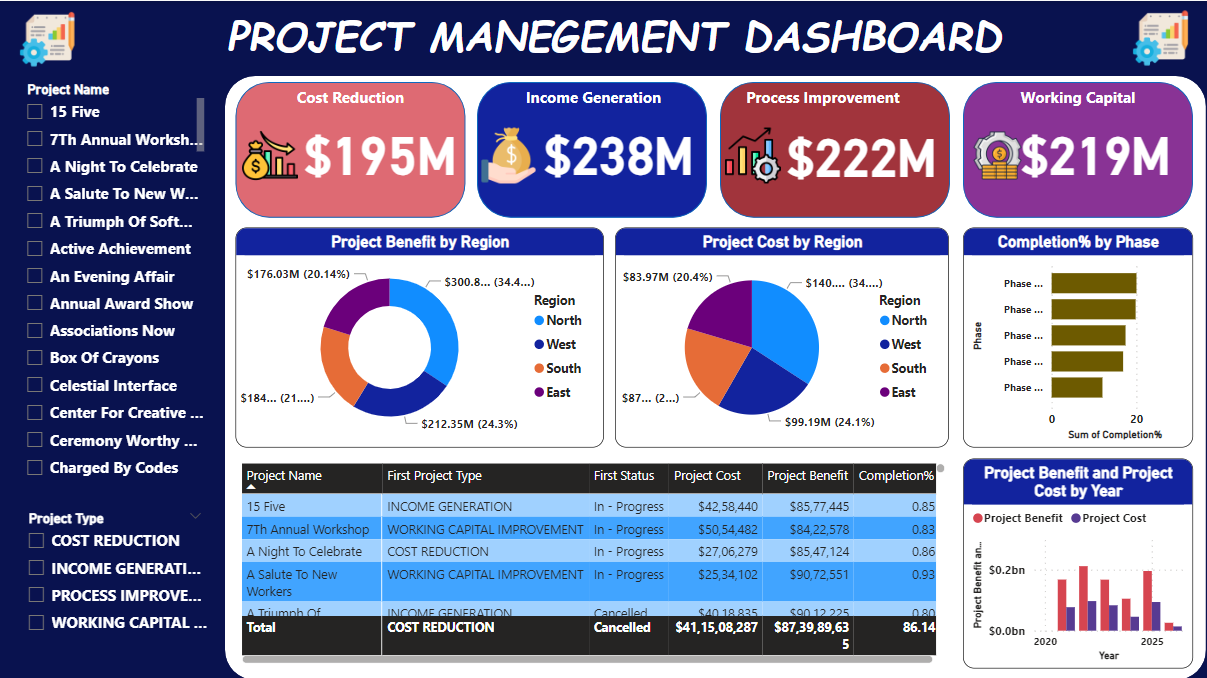

Layout of this report page (visuals, bound fields, positions):
{"tool":"powerbi","page":{"name":"Page 1","canvas":[1280,720],"ordinal":0},"visuals":[{"type":"card","fields":{"Values":["Sum(Project Management Dataset. Project Benefit )"]},"box":[285.2,101.5,236.2,110.5],"z":0,"group":"g1"},{"type":"shape","box":[239.2,78.7,1040.3,640.5],"z":0},{"type":"card","fields":{"Values":["Sum(Project Management Dataset. Project Benefit )"]},"box":[538.1,101.5,236.2,110.5],"z":1000,"group":"g1"},{"type":"shape","box":[249.3,85.3,243.8,143.8],"z":1000},{"type":"card","fields":{"Values":["Sum(Project Management Dataset. Project Benefit )"]},"box":[795.5,104.5,236.2,107.5],"z":2000,"group":"g1"},{"type":"shape","box":[506.6,85.3,243.8,143.8],"z":2000},{"type":"card","fields":{"Values":["Sum(Project Management Dataset. Project Benefit )"]},"box":[1043.8,101.5,236.2,110.5],"z":3000,"group":"g1"},{"type":"shape","box":[763.8,86.2,243.8,143.8],"z":3000},{"type":"image","box":[1022.1,129.3,69.7,69.7],"z":4000,"group":"g1"},{"type":"shape","box":[1021,86.2,243.8,143.8],"z":4000},{"type":"image","box":[251.4,129.3,69.7,69.7],"z":5000,"group":"g1"},{"type":"textbox","box":[249.8,86.3,243.8,36.3],"z":5000},{"type":"image","box":[504.3,129.3,69.7,69.7],"z":6000,"group":"g1"},{"type":"textbox","box":[507.3,86.3,243.8,36.3],"z":6000},{"type":"image","box":[763.7,128.8,69.7,69.7],"z":7000,"group":"g1"},{"type":"textbox","box":[751,86.3,243.8,36.3],"z":7000},{"type":"textbox","box":[1020.6,86.3,243.8,36.3],"z":8000},{"type":"group","id":"g1","title":"Group 1","box":[251.4,101.5,1028.1,110.5],"z":9000},{"type":"donutChart","title":"Project Benefit  by Region","fields":{"Y":["Sum(Project Management Dataset. Project Benefit )"],"Category":["Project Management Dataset.Region"]},"box":[249.8,240.8,390.7,233.2],"z":10000},{"type":"pieChart","title":"Project Cost  by Region","fields":{"Category":["Project Management Dataset.Region"],"Y":["Sum(Project Management Dataset. Project Cost )"]},"box":[652.6,240.8,354.3,233.2],"z":11000},{"type":"barChart","title":"Completion% by Phase","fields":{"Y":["Sum(Project Management Dataset.Completion%)"],"Category":["Project Management Dataset.Phase"]},"box":[1020.6,240.8,243.8,233.2],"z":12000},{"type":"pivotTable","fields":{"Rows":["Project Management Dataset.Project Name"],"Values":["Min(Project Management Dataset.Project Type)","Min(Project Management Dataset.Status)","Sum(Project Management Dataset. Project Cost )","Sum(Project Management Dataset. Project Benefit )","Sum(Project Management Dataset.Completion%)"]},"box":[251.4,484.5,755.6,222.6],"z":13000},{"type":"clusteredColumnChart","fields":{"Y":["Sum(Project Management Dataset. Project Benefit )","Sum(Project Management Dataset. Project Cost )"],"Category":["Project Management Dataset.End Date.Variation.Date Hierarchy.Year"]},"box":[1020.6,484.5,243.8,222.6],"z":14000},{"type":"slicer","fields":{"Values":["Project Management Dataset.Project Name"]},"box":[16.7,78.7,205.4,435.6],"z":15000},{"type":"slicer","fields":{"Values":["Project Management Dataset.Project Type"]},"box":[18.2,535,209,166.1],"z":16000},{"type":"textbox","box":[21.7,0,1258.3,75.7],"z":17000},{"type":"image","box":[12.1,3,74.2,74.2],"z":18000},{"type":"image","box":[1192.7,1.5,74.7,74.7],"z":19000}]}

Visuals, with their boxes in screenshot pixels (x1, y1, x2, y2), scaled from the page's 1280x720 canvas onto the 1207x678 screenshot:
card - Sum(Project Management Dataset. Project Benefit ): crop(269, 96, 492, 200)
shape: crop(226, 74, 1206, 677)
card - Sum(Project Management Dataset. Project Benefit ): crop(507, 96, 730, 200)
shape: crop(235, 80, 465, 216)
card - Sum(Project Management Dataset. Project Benefit ): crop(750, 98, 973, 200)
shape: crop(478, 80, 708, 216)
card - Sum(Project Management Dataset. Project Benefit ): crop(984, 96, 1206, 200)
shape: crop(720, 81, 950, 217)
image: crop(964, 122, 1030, 187)
shape: crop(963, 81, 1193, 217)
image: crop(237, 122, 303, 187)
textbox: crop(236, 81, 465, 115)
image: crop(476, 122, 541, 187)
textbox: crop(478, 81, 708, 115)
image: crop(720, 121, 786, 187)
textbox: crop(708, 81, 938, 115)
textbox: crop(962, 81, 1192, 115)
"Group 1" group: crop(237, 96, 1206, 200)
"Project Benefit  by Region" donutChart: crop(236, 227, 604, 446)
"Project Cost  by Region" pieChart: crop(615, 227, 949, 446)
"Completion% by Phase" barChart: crop(962, 227, 1192, 446)
pivotTable - Project Management Dataset.Project Name x Min(Project Management Dataset.Project Type): crop(237, 456, 950, 666)
clusteredColumnChart - Sum(Project Management Dataset. Project Benefit ) x Sum(Project Management Dataset. Project Cost ): crop(962, 456, 1192, 666)
slicer - Project Management Dataset.Project Name: crop(16, 74, 209, 484)
slicer - Project Management Dataset.Project Type: crop(17, 504, 214, 660)
textbox: crop(20, 0, 1206, 71)
image: crop(11, 3, 81, 73)
image: crop(1125, 1, 1195, 72)
